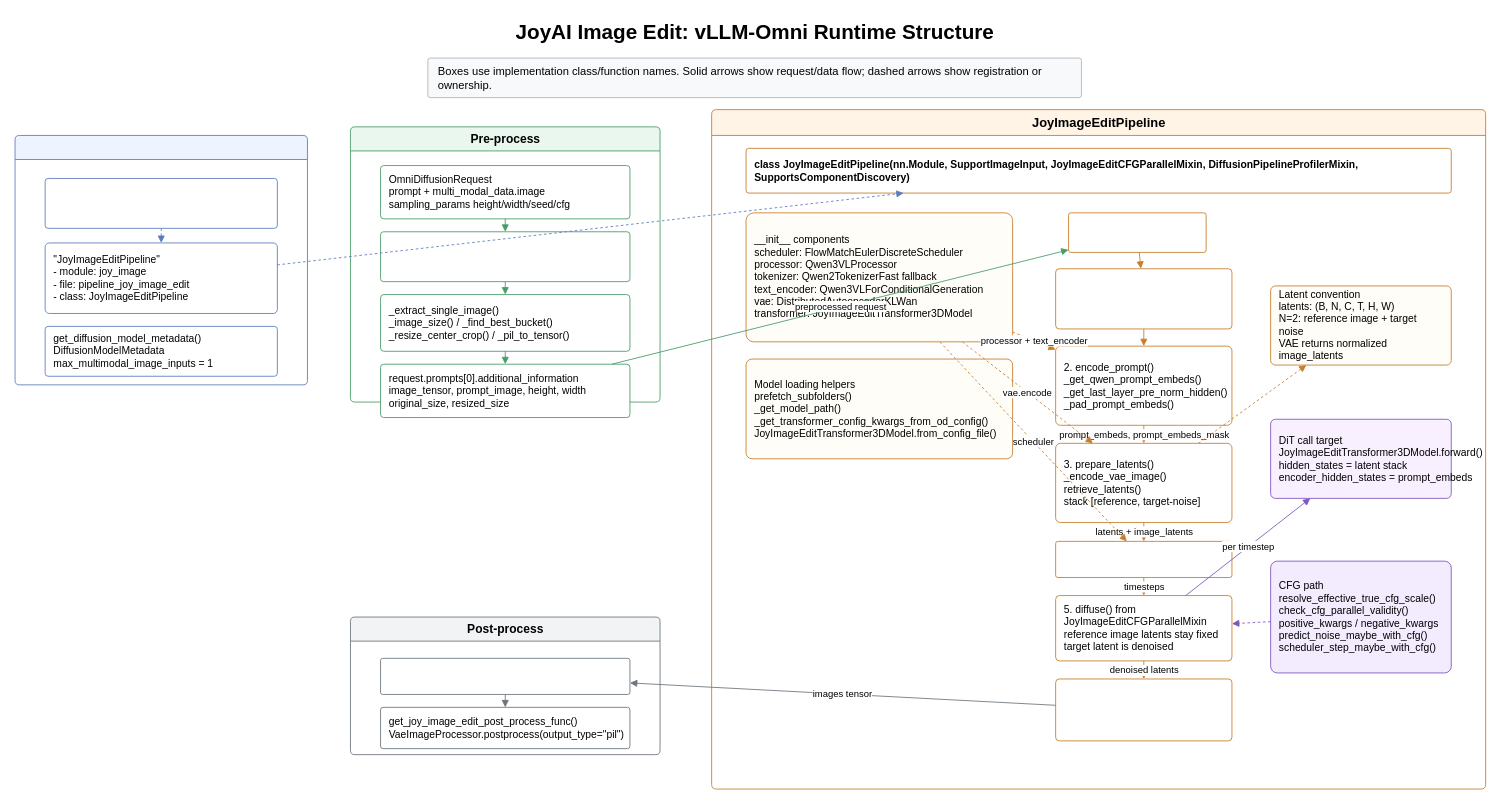
This 1501x804 diagram has some shape labels left out. Each missing label, with the box of its shape:
1. Read preprocessed request prompt, prompt_image, image_tensor height, width: (1055, 268, 1232, 329)
4. scheduler.set_timesteps(): (1055, 541, 1232, 577)
6. _decode_latents() _prepare_vae_for_decode() decode target slot only: (1055, 678, 1232, 741)
DiffusionModelRegistry registry.py: (44, 178, 277, 228)
DiffusionOutput(output=images): (380, 657, 630, 694)
forward(req): (1068, 212, 1206, 252)
get_joy_image_edit_pre_process_func() returns pre_process_func: (380, 231, 630, 282)
Registration and metadata: (14, 135, 307, 385)
